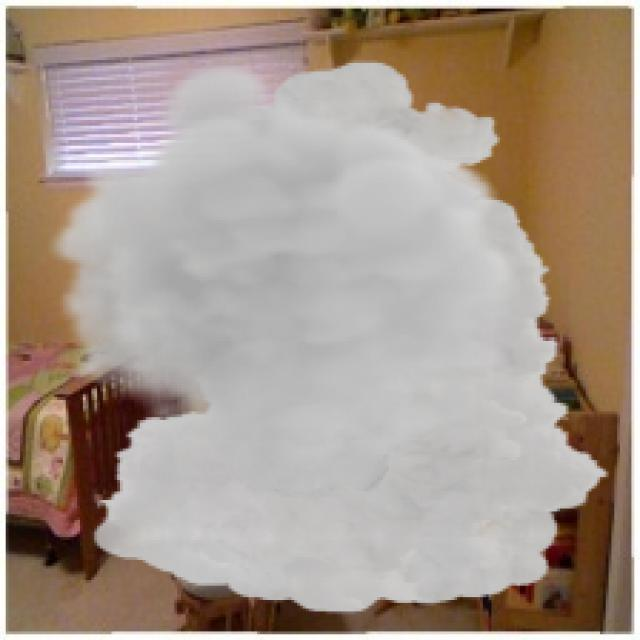smoke: (49, 60, 612, 614)
